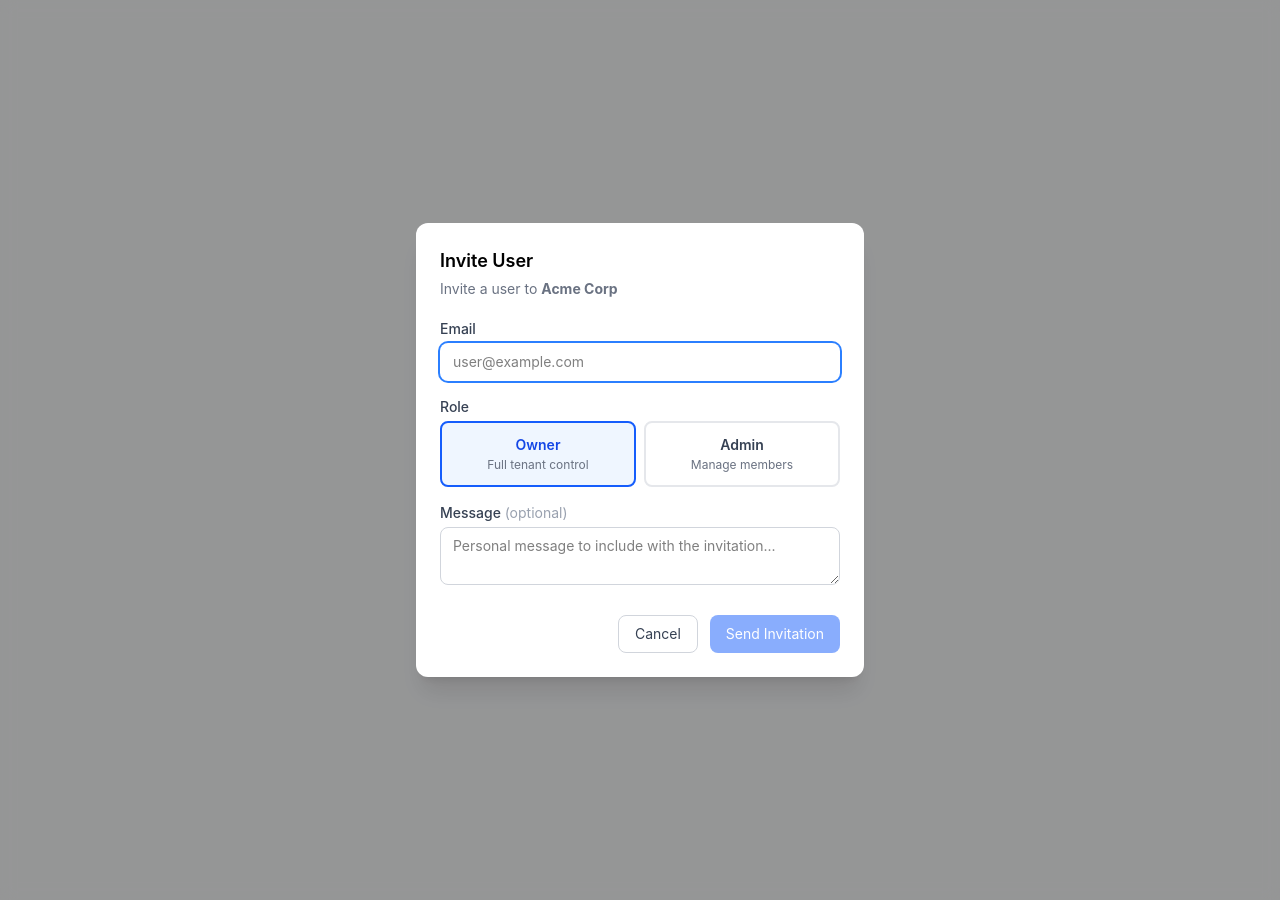
Scenario: InviteUserDialog › shows success state with invite code after creation
Type "test@example.com" into the field labelled "Email". click: (640, 362)
box: [440,343,840,381]
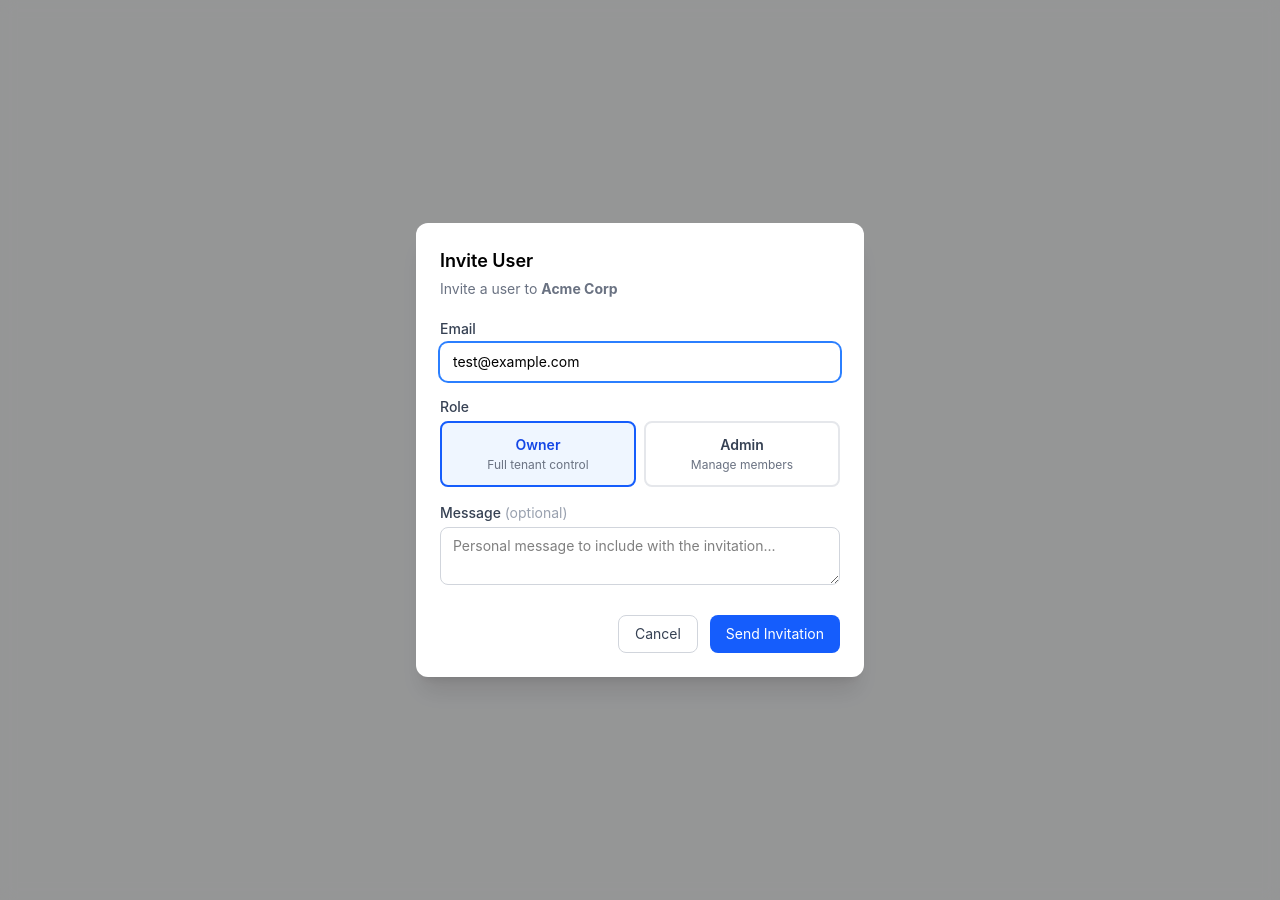
Click the button "Send Invitation". click: (775, 634)
box: [710,615,840,653]
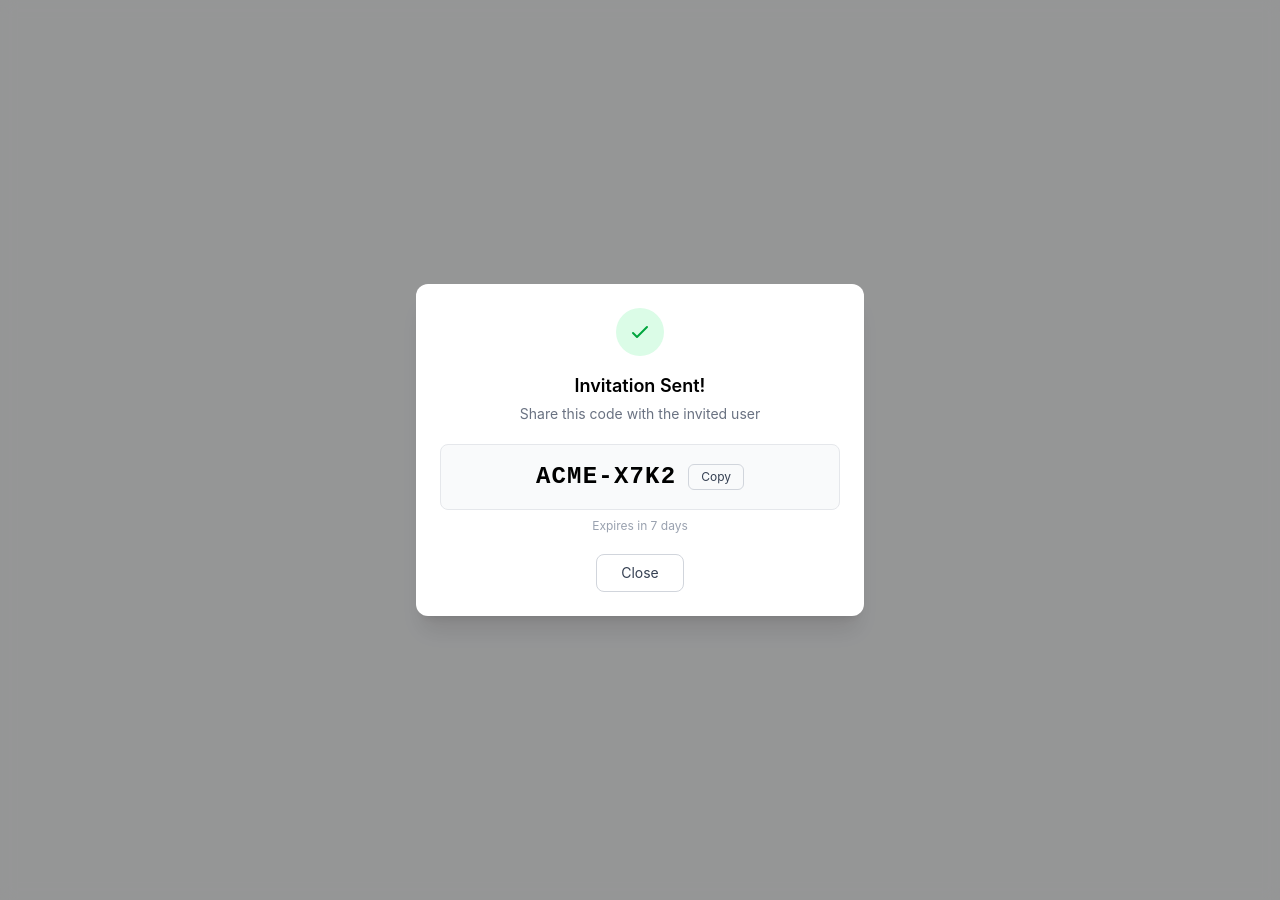
Check: the heading "Invitation Sent!" is shown, box [575,375,705,396]
Check: the text "ACME-X7K2" is shown, box [536,461,676,493]
Check: the button "Copy" is shown, box [688,464,744,490]
